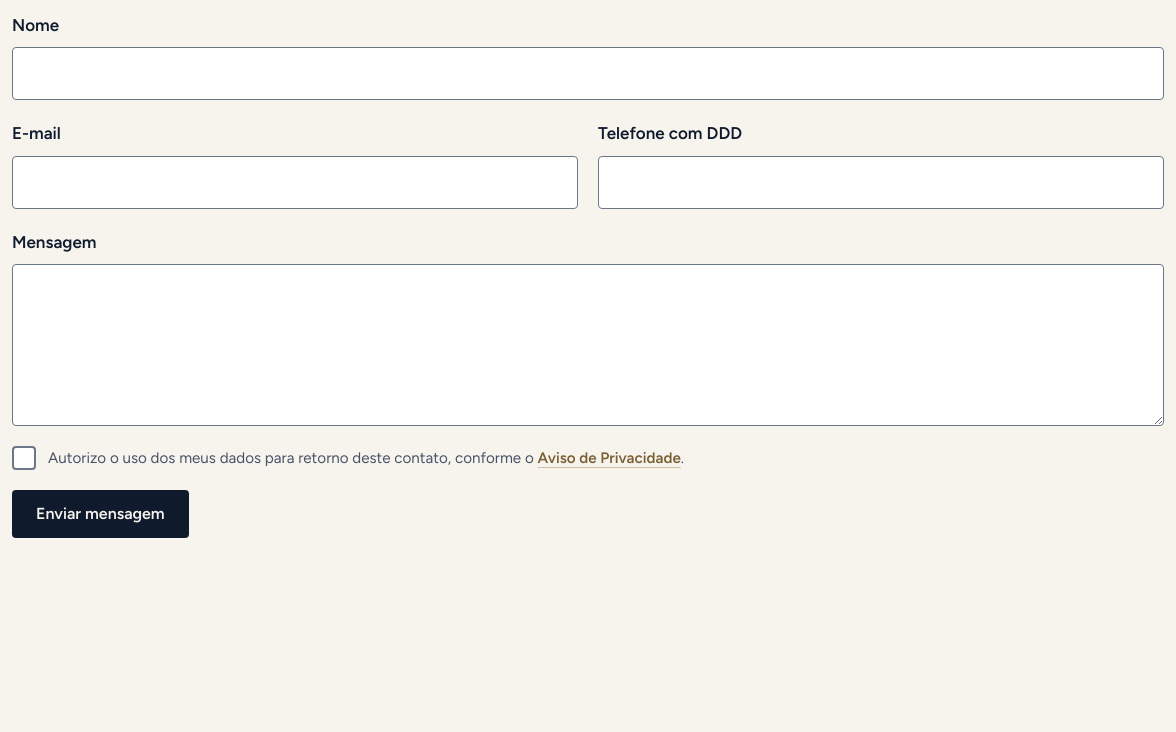
Test: ContactForm › exibe erro do servidor sem perder os dados
The image size is (1176, 732).
Type "Pessoa de Teste" into the field labelled "Nome" at (588, 74), box [12, 47, 1164, 100]
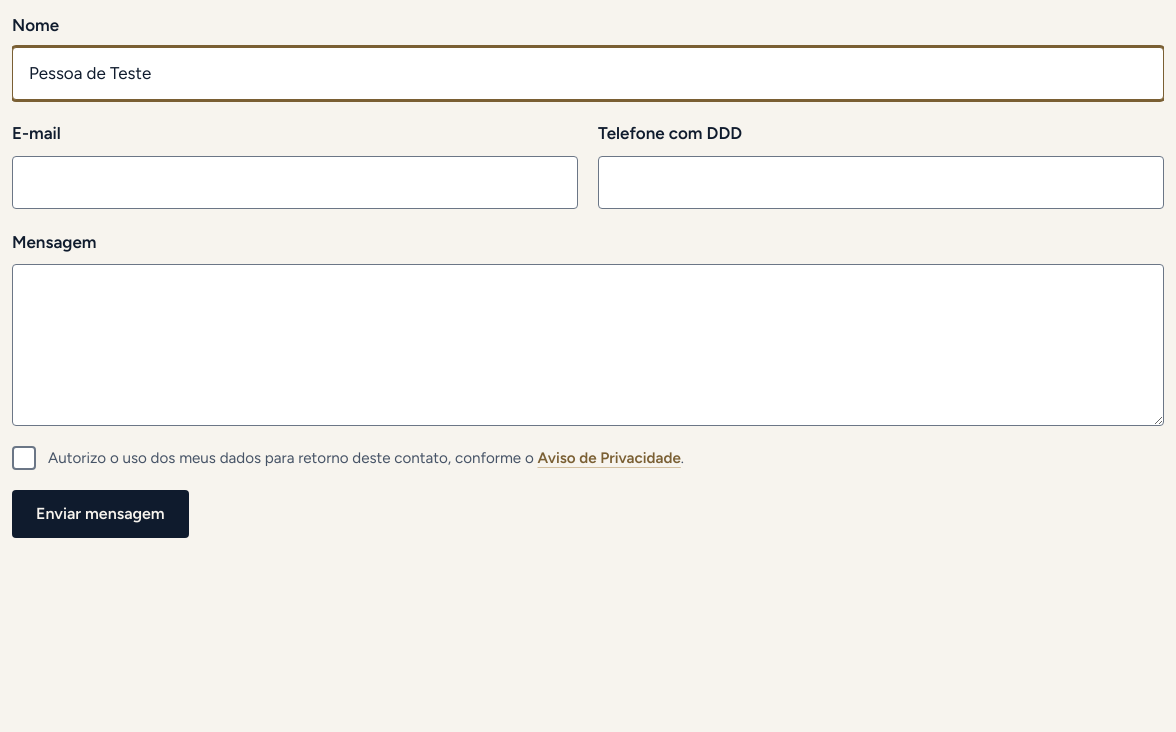
Type "pessoa@teste.example" into the field labelled "E-mail" at (295, 182), box [12, 156, 578, 209]
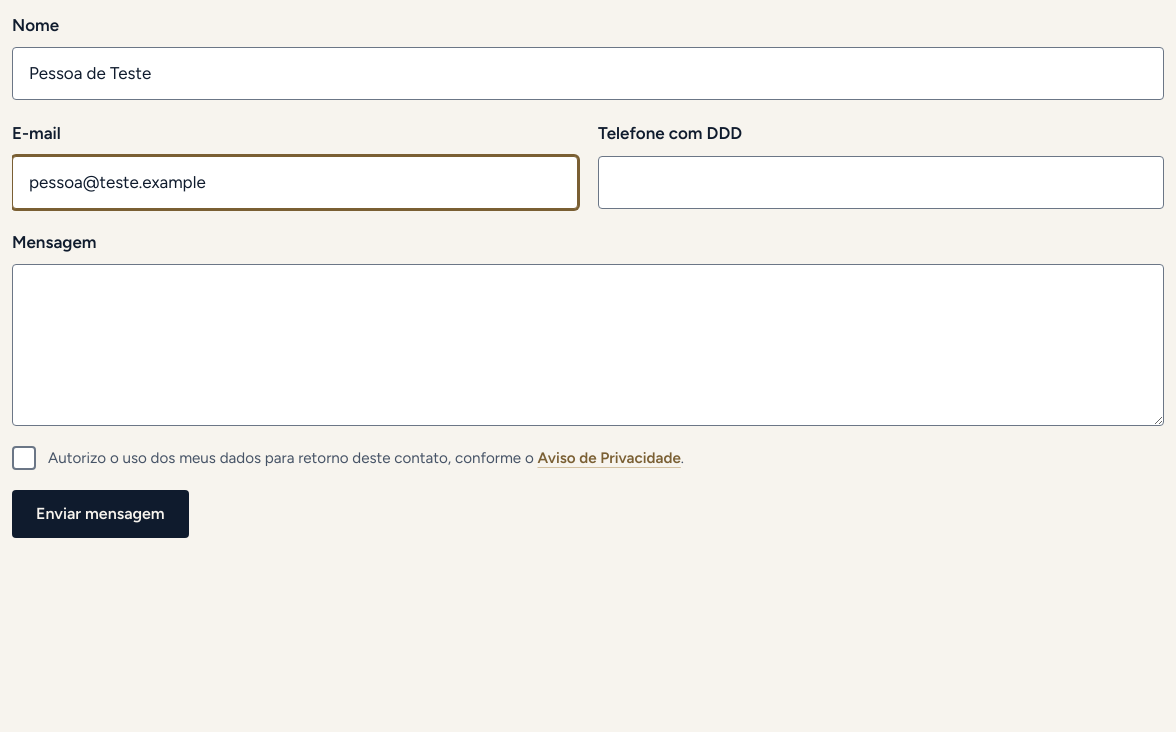
Type "(00) 90000-0000" into the field labelled "Telefone com DDD" at (881, 182), box [598, 156, 1164, 209]
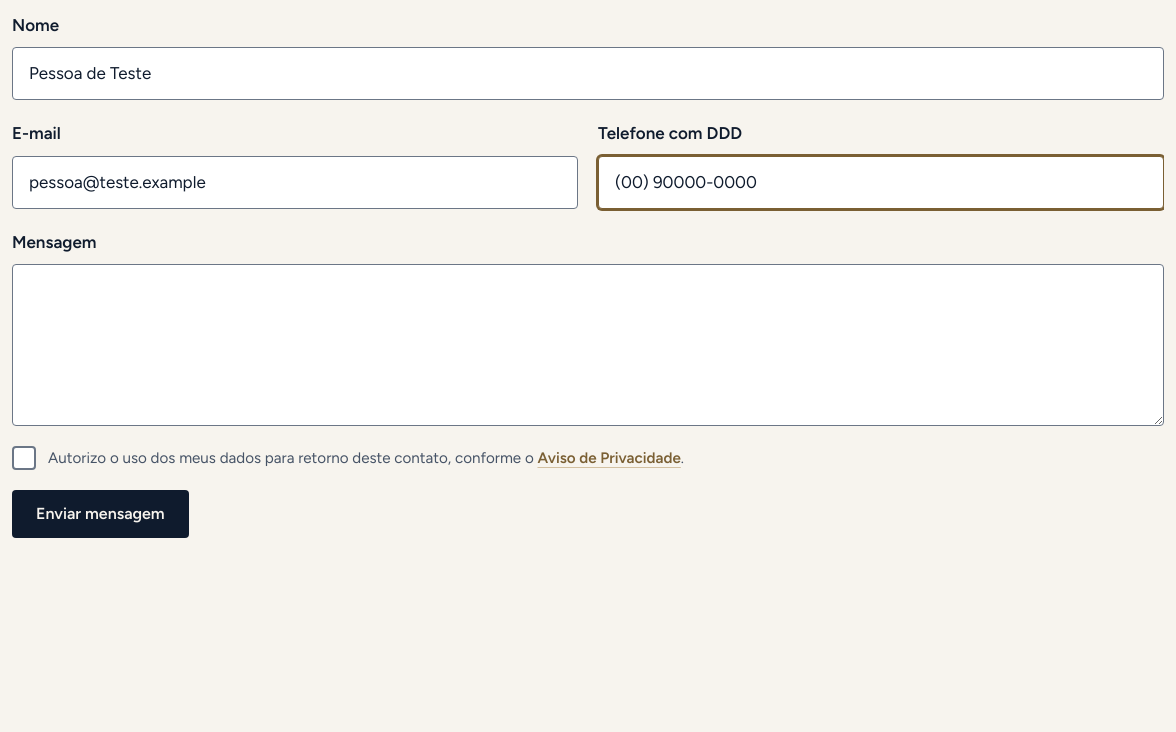
Type "Gostaria de agendar uma consulta." into the text box labelled "Mensagem" at (588, 345), box [12, 264, 1164, 426]
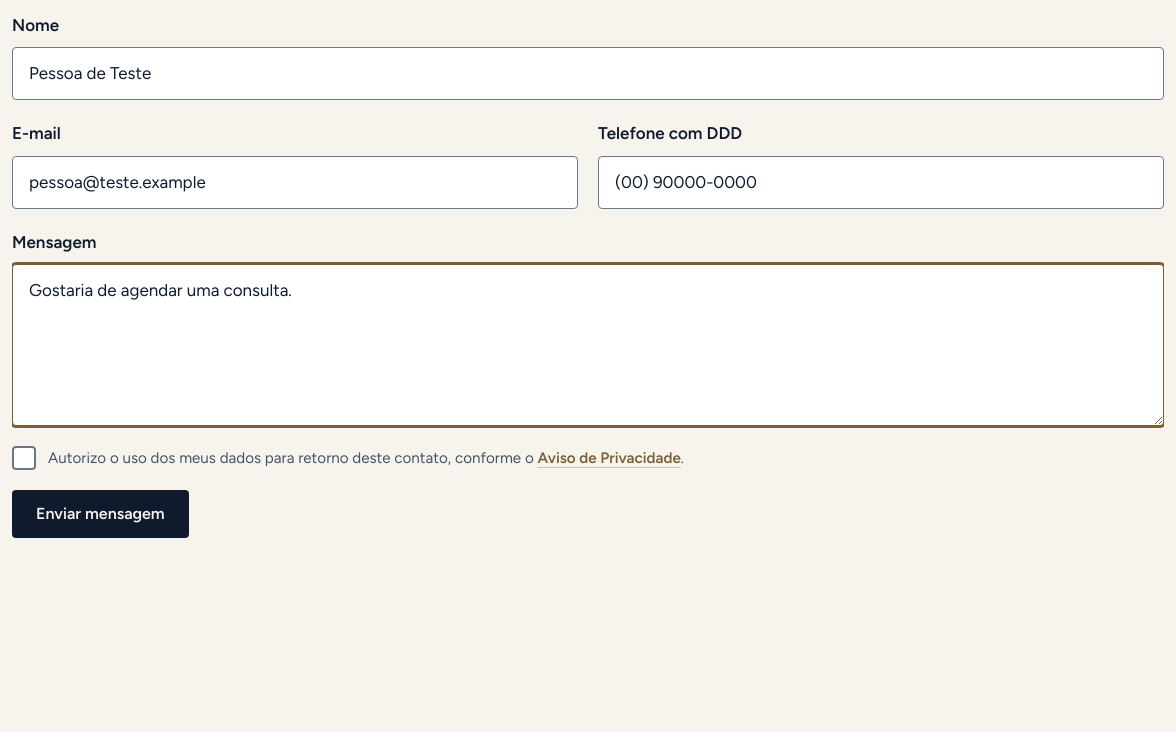
Click the checkbox at (24, 458), box [12, 446, 36, 470]
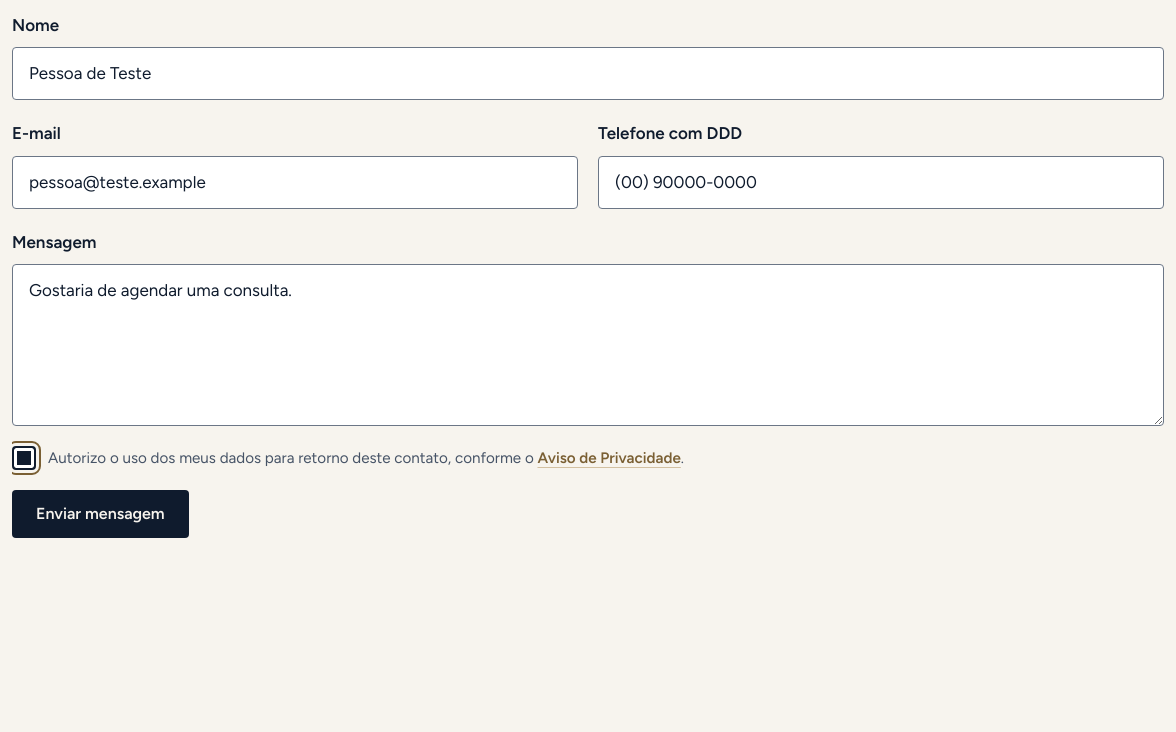
Click the button "Enviar mensagem" at (100, 514), box [12, 490, 189, 538]
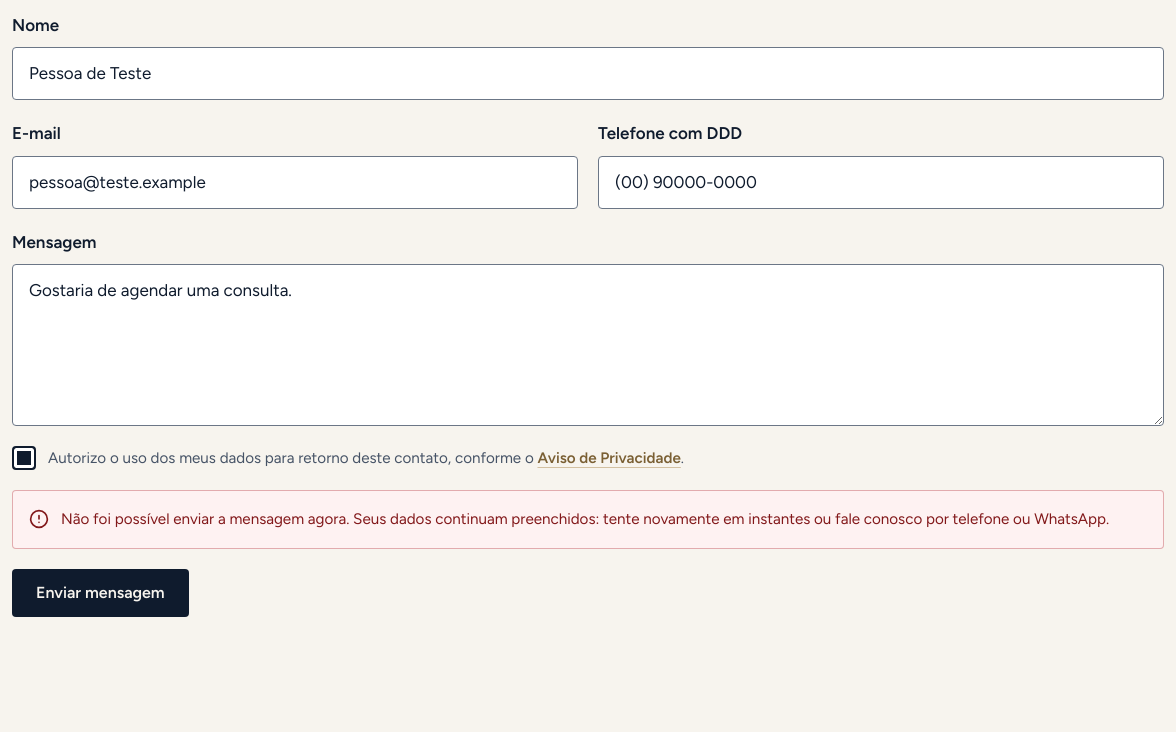
Expected: the message shows "Não foi possível enviar a mensagem agora. Seus dados continuam preenchidos: tente novamente em instantes ou fale conosco por telefone ou WhatsApp.", [61, 510, 1109, 528]
